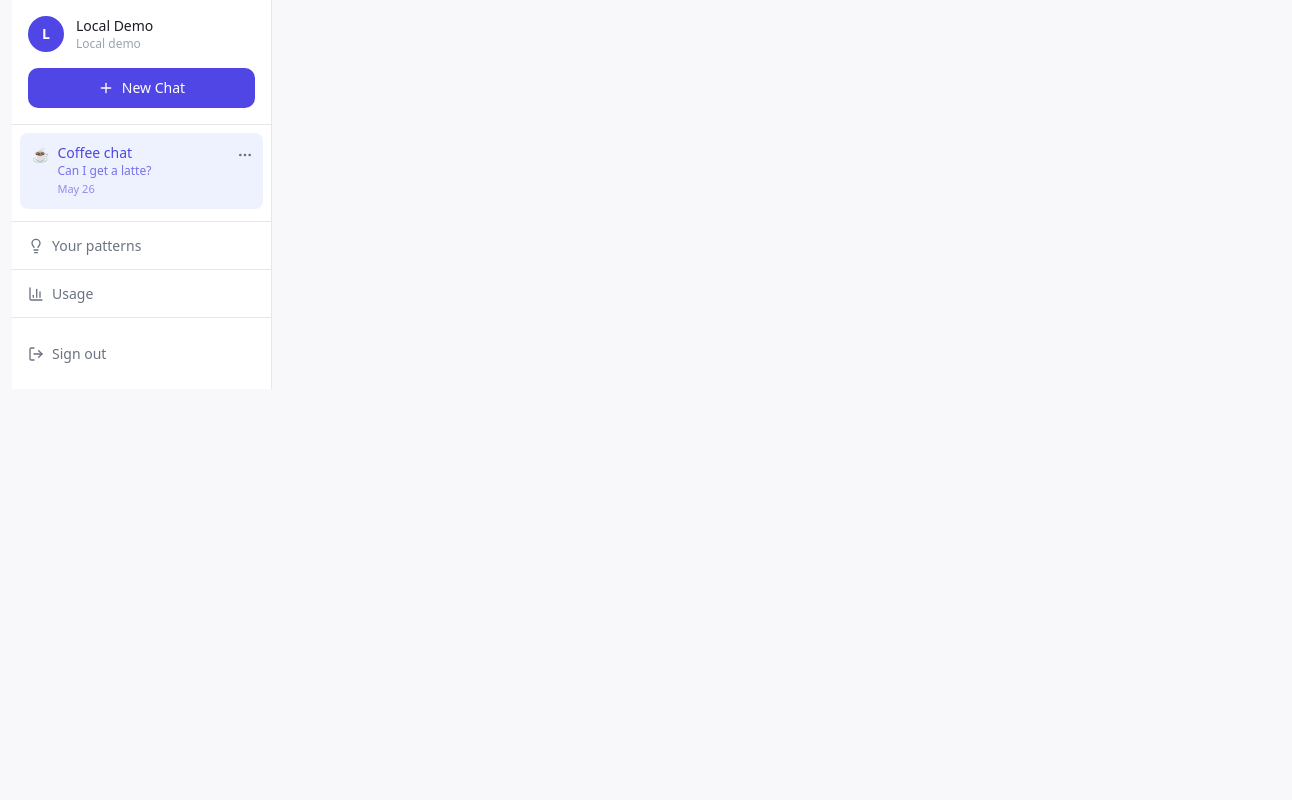
Test case: Sidebar › closes session actions when clicking outside the menu
Click the button named "session actions".
click(245, 155)  # box [231,141,259,169]
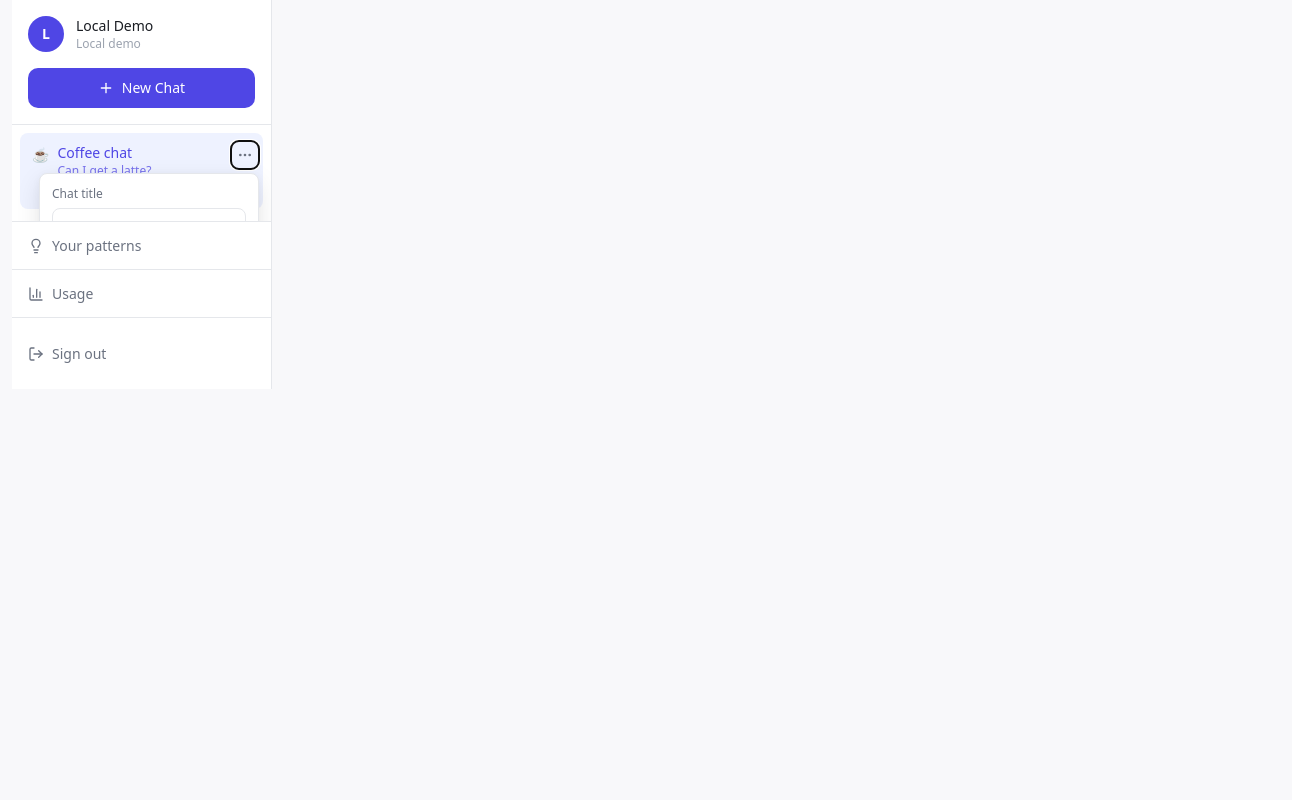
Press the mouse on the element that starts with "Local Demo" at (652, 400), box [12,0,1291,799]
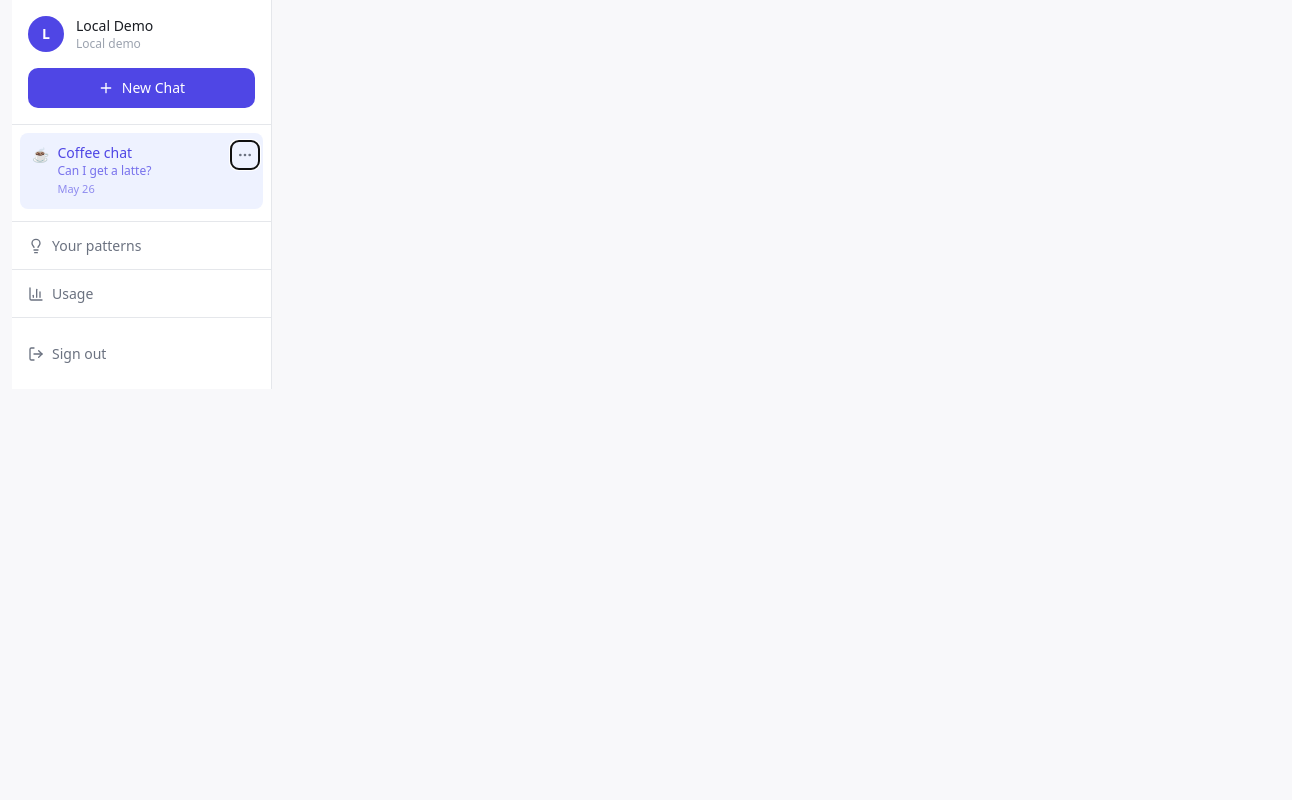
Result: the label labelled "Chat title" is gone
